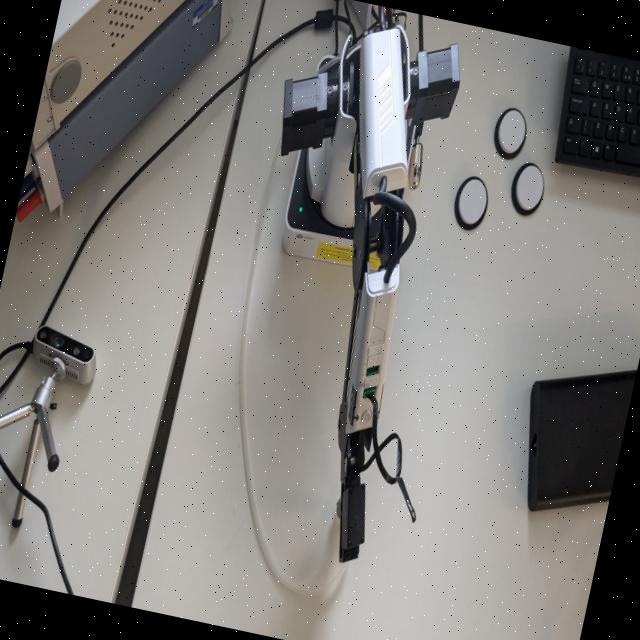Robot-end-effector-HF8z: (318, 472, 378, 568)
